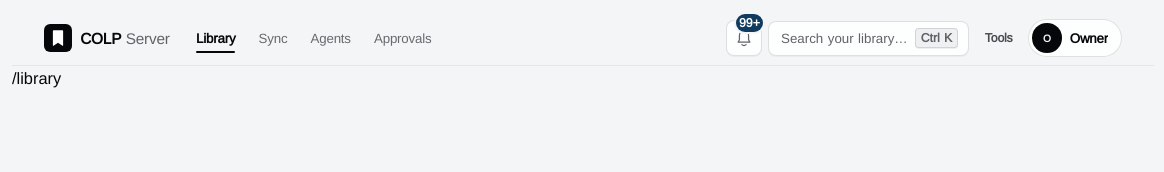
Test: Activity navigation › shows the unread count with an accessible label and caps the pill at 99+
Expected: the text "99+" is shown, [736, 14, 763, 32]
Click the link named "Activity, 107 unread".
click(744, 38)  # box [726, 20, 762, 56]
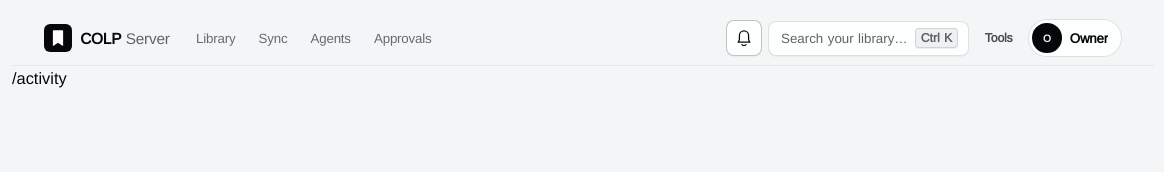
Now the text "/activity" is shown, box [12, 68, 67, 88]
